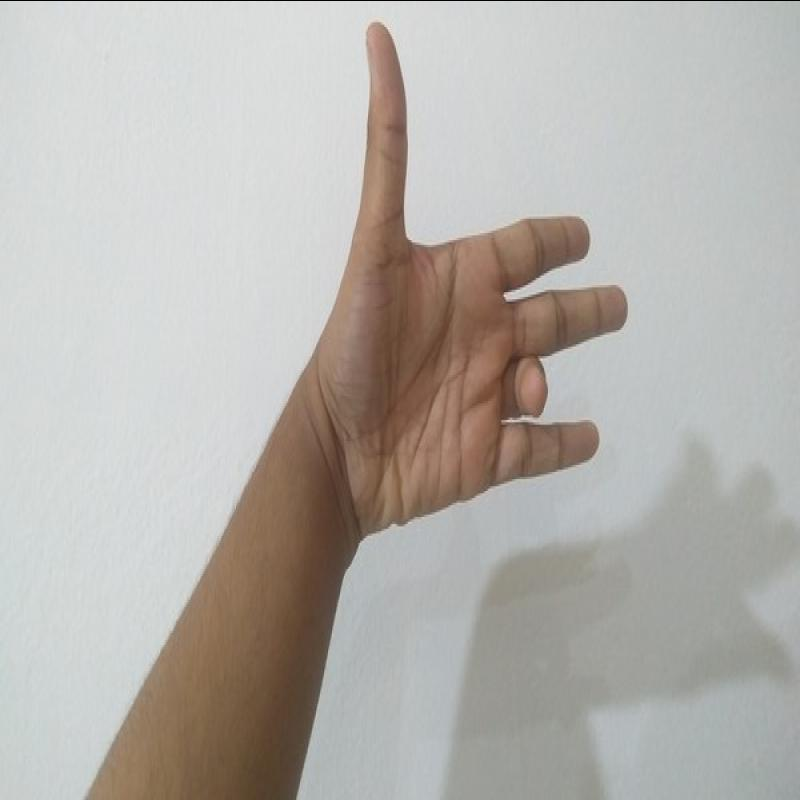Pathaaka: (298, 1, 648, 545)
